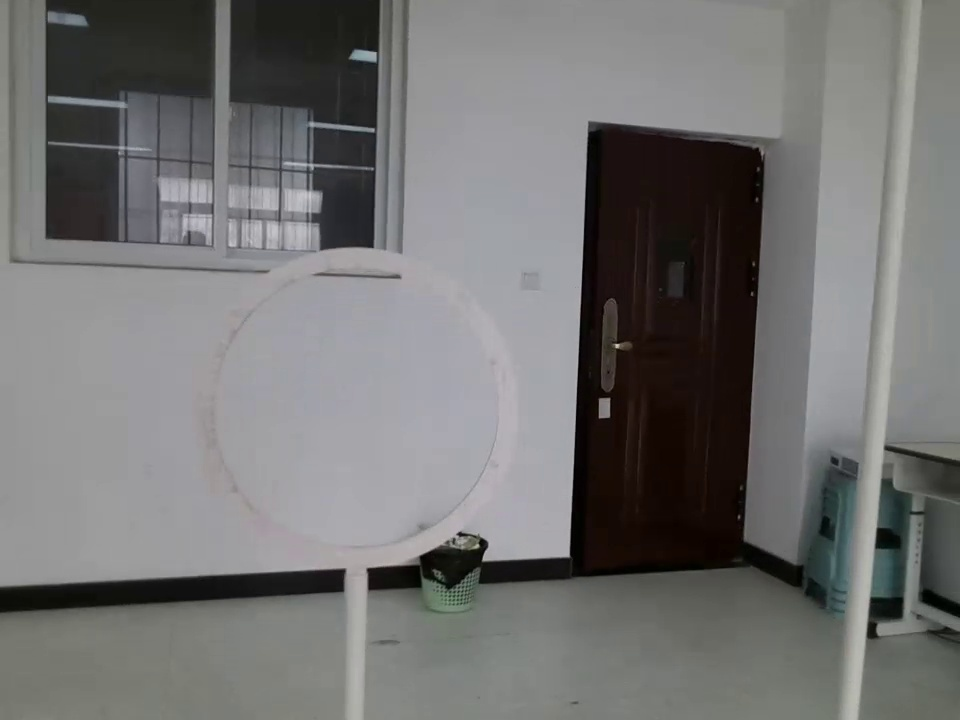gan: (842, 1, 927, 704)
quan: (192, 248, 524, 583)
